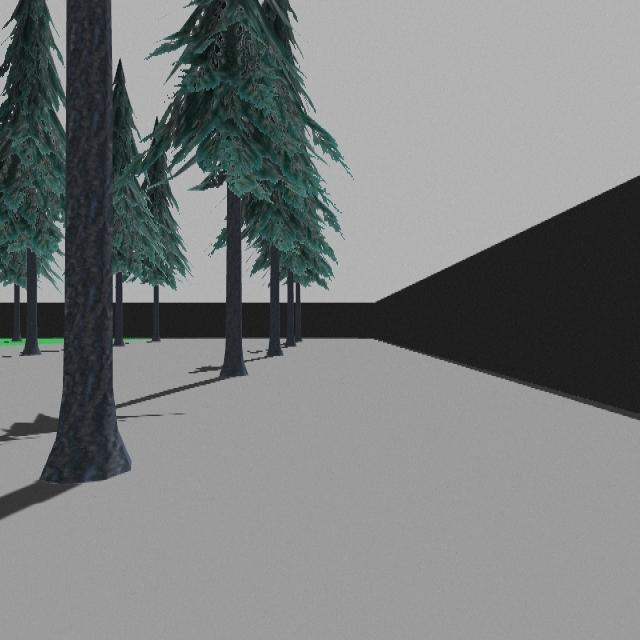tree: (142, 0, 343, 380), (41, 0, 131, 487)
